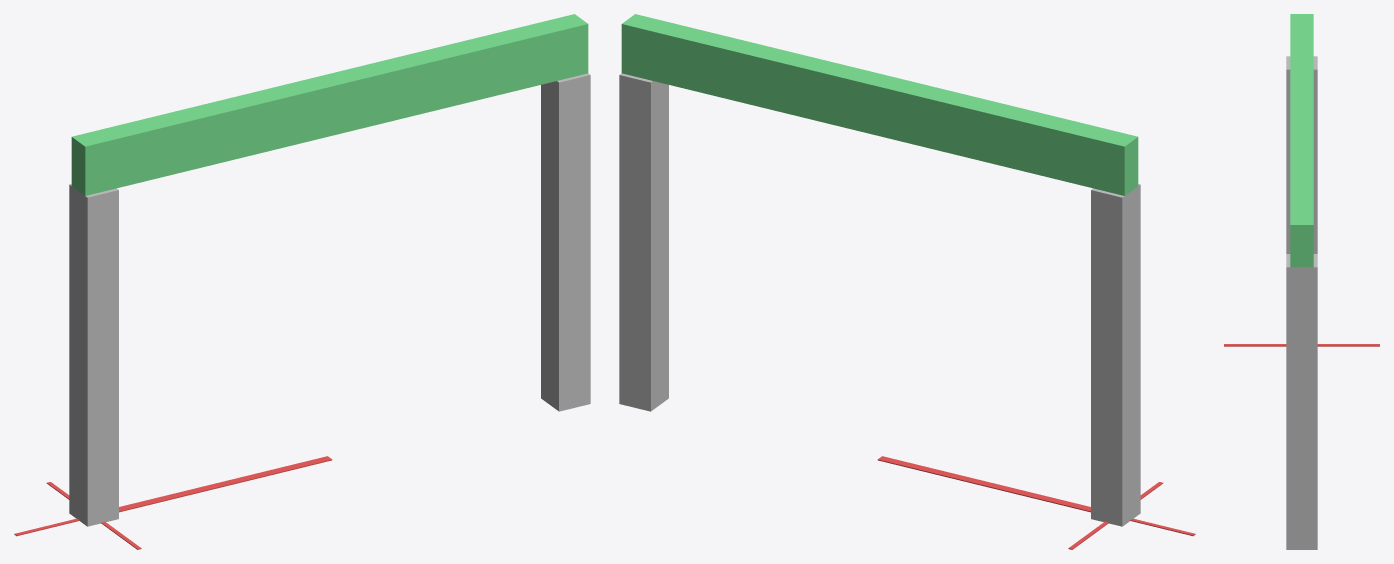
3 renders of one model, left to right at view 1: azimuth 30°, elevation 25°; view 2: azimuth 150°, elevation 25°; view 3: azimuth 270°, elevation 25°, orthographic. The views are drawn at different scales.
Visible parts, largest first — view 1: Truss, Kolom1, Kolom2, AcuanPanah; view 2: Truss, Kolom1, Kolom2, AcuanPanah; view 3: Kolom2, Truss, Kolom1, AcuanZ.
Part boxes in pixels (<box>): Truss: <box>71,14,588,195</box>; Kolom1: <box>69,184,118,526</box>; Kolom2: <box>541,73,590,411</box>; AcuanPanah: <box>119,456,332,512</box>; Truss: <box>621,14,1138,195</box>; Kolom1: <box>1091,184,1140,526</box>; Kolom2: <box>619,73,668,411</box>; AcuanPanah: <box>877,456,1090,512</box>; Kolom2: <box>1286,254,1317,549</box>; Truss: <box>1290,14,1313,267</box>; Kolom1: <box>1286,56,1317,253</box>; AcuanZ: <box>1224,344,1379,346</box>.
Size of the model in its own units: 7.2 by 4.6 by 2.
